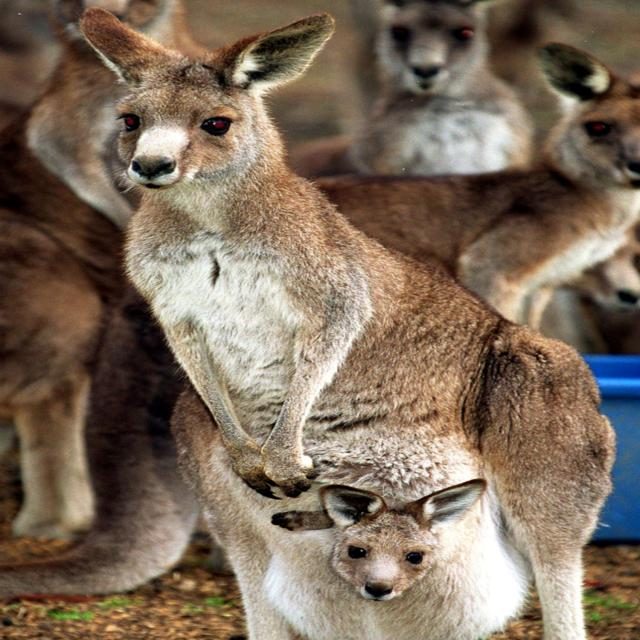kangaroo: (80, 9, 614, 640)
